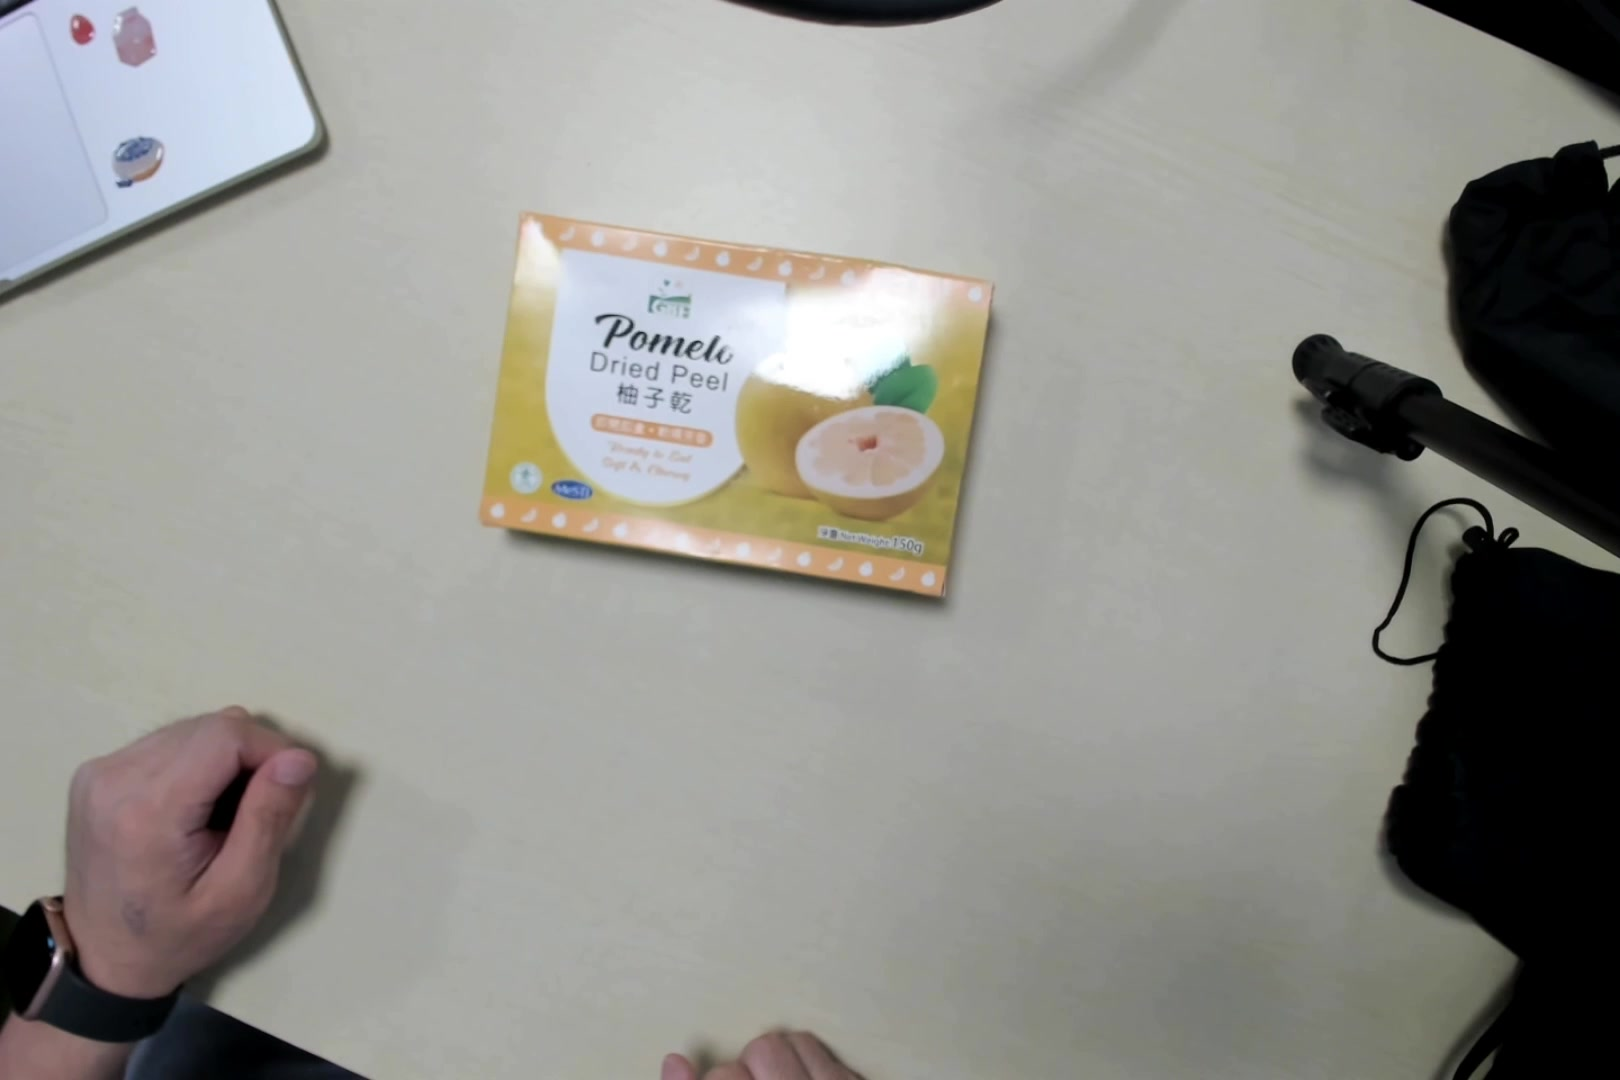DriedVegetables_100-199g_NonHalal_NonHealthy: (483, 207, 986, 606)
